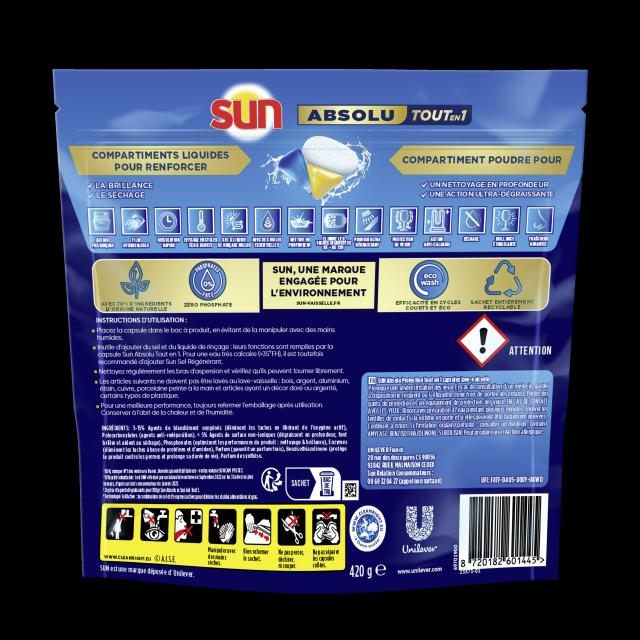GHS_Symbol_EXCLAMATION_MARK: (457, 313, 509, 368)
